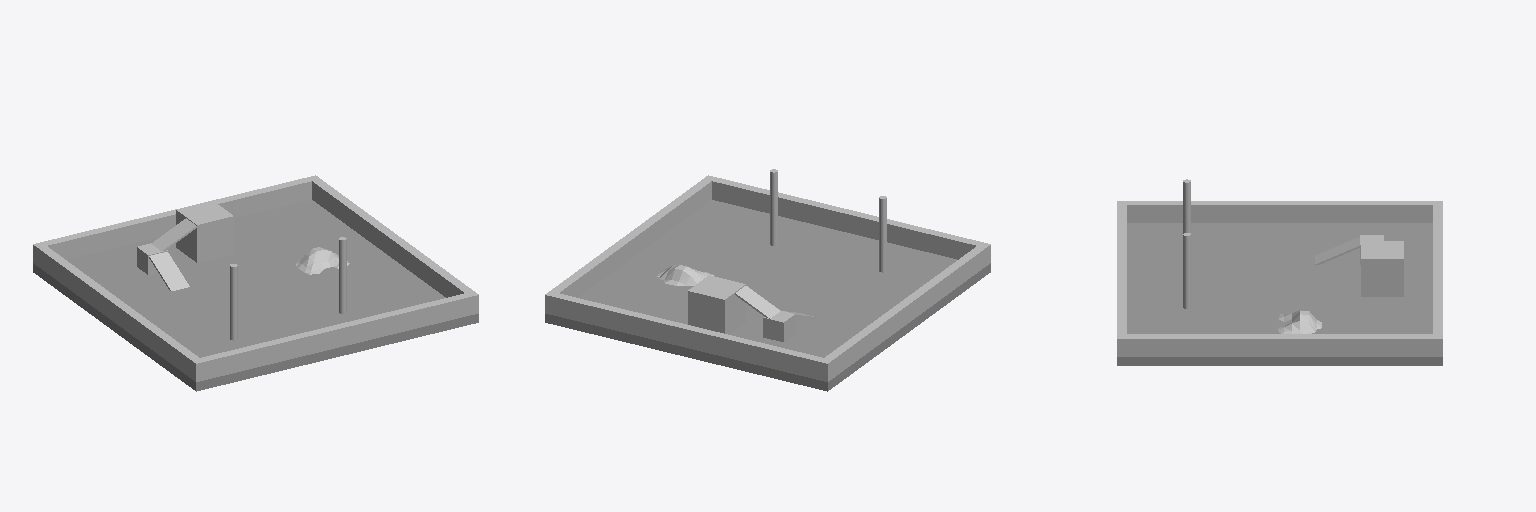
The model's file is roomTest.obj.
The picture shows the model from 3 angles: view 1: azimuth 30°, elevation 25°; view 2: azimuth 150°, elevation 25°; view 3: azimuth 270°, elevation 25°; orthographic projection.
Parts seen in each view (by area): view 1: Cube, Cube.002, Cube.001, Cube.004, Cube.003, Cube.005, Grid, Cube.008, Cube.007, Cylinder, Cylinder.001; view 2: Cube, Cube.001, Cube.002, Cube.004, Cube.003, Cube.005, Cube.006, Grid, Cube.007, Cylinder, Cylinder.001; view 3: Cube, Cube.003, Cube.004, Cube.005, Cube.001, Cube.002, Grid, Cylinder.
Boxes of the visible parts, <box> form: Cube: <box>33,200,478,391</box>; Cube.002: <box>191,292,478,381</box>; Cube.001: <box>34,176,319,259</box>; Cube.004: <box>33,244,204,381</box>; Cube.003: <box>307,175,478,300</box>; Cube.005: <box>176,200,233,262</box>; Grid: <box>295,247,349,274</box>; Cube.008: <box>149,252,189,290</box>; Cube.007: <box>151,218,196,250</box>; Cylinder: <box>339,237,346,313</box>; Cylinder.001: <box>230,264,237,340</box>; Cube: <box>545,200,990,391</box>; Cube.001: <box>545,291,830,379</box>; Cube.002: <box>705,176,990,265</box>; Cube.004: <box>819,242,987,381</box>; Cube.003: <box>545,175,715,297</box>; Cube.005: <box>688,275,745,334</box>; Cube.006: <box>763,310,795,341</box>; Grid: <box>657,265,713,285</box>; Cube.007: <box>735,286,779,318</box>; Cylinder: <box>770,169,777,245</box>; Cylinder.001: <box>879,196,886,272</box>; Cube: <box>1117,223,1442,365</box>; Cube.003: <box>1117,334,1442,356</box>; Cube.004: <box>1117,201,1442,222</box>; Cube.005: <box>1361,241,1403,296</box>; Cube.001: <box>1433,202,1442,356</box>; Cube.002: <box>1117,204,1126,333</box>; Grid: <box>1278,310,1321,333</box>; Cylinder: <box>1183,233,1190,308</box>.
Bounding box in the file's own units: 64 × 17.87 × 64.